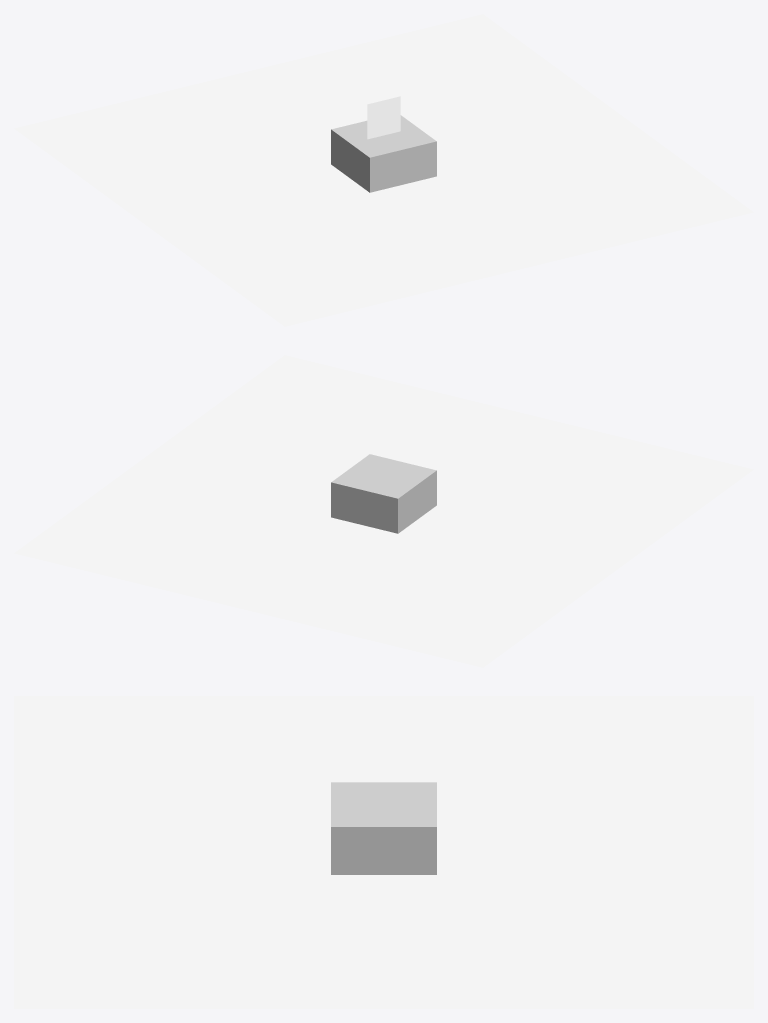
The model's file is animatedTextures.glb.
3 renders of one model, top to bottom at view 1: azimuth 30°, elevation 25°; view 2: azimuth 150°, elevation 25°; view 3: azimuth 270°, elevation 25°, orthographic. The views are drawn at different scales.
Visible parts, largest first — view 1: Cube, Plane.015, Plane.019, Plane.021, Plane.028, Plane.035, Plane.042, Plane.014, Plane.017, Plane.033, Plane.046, Plane.007 (+38 smaller); view 2: Cube, Plane.016, Plane.018, Plane.021, Plane.028, Plane.035, Plane.042, Plane.014, Plane.017, Plane.032, Plane.047, Plane.003 (+37 smaller); view 3: Cube, Plane.023, Plane.024, Plane.037, Plane.038, Plane.001, Plane.009, Plane.010, Plane.012, Plane.013, Plane.030, Plane.031 (+36 smaller).
Boxes of the visible parts, left/top/right/bottom form: Cube: left=331, top=115, right=436, bottom=192; Plane.015: left=91, top=169, right=196, bottom=213; Plane.019: left=571, top=127, right=676, bottom=171; Plane.021: left=254, top=91, right=358, bottom=135; Plane.028: left=215, top=63, right=320, bottom=107; Plane.035: left=409, top=205, right=513, bottom=249; Plane.042: left=447, top=233, right=552, bottom=277; Plane.014: left=130, top=197, right=235, bottom=241; Plane.017: left=532, top=99, right=637, bottom=143; Plane.033: left=416, top=14, right=521, bottom=58; Plane.046: left=246, top=282, right=351, bottom=326; Plane.007: left=370, top=176, right=474, bottom=220; Cube: left=331, top=454, right=436, bottom=533; Plane.016: left=571, top=510, right=676, bottom=554; Plane.018: left=91, top=468, right=196, bottom=512; Plane.021: left=254, top=546, right=358, bottom=590; Plane.028: left=215, top=574, right=320, bottom=618; Plane.035: left=409, top=432, right=513, bottom=476; Plane.042: left=447, top=404, right=552, bottom=448; Plane.014: left=532, top=538, right=637, bottom=582; Plane.017: left=130, top=440, right=235, bottom=484; Plane.032: left=416, top=623, right=521, bottom=667; Plane.047: left=246, top=355, right=351, bottom=399; Plane.003: left=293, top=517, right=397, bottom=561; Cube: left=331, top=782, right=436, bottom=874; Plane.023: left=542, top=919, right=648, bottom=964; Plane.024: left=542, top=740, right=648, bottom=785; Plane.037: left=119, top=919, right=225, bottom=964; Plane.038: left=119, top=740, right=225, bottom=785; Plane.001: left=331, top=919, right=436, bottom=964; Plane.009: left=437, top=919, right=542, bottom=964; Plane.010: left=225, top=919, right=330, bottom=964; Plane.012: left=437, top=740, right=542, bottom=785; Plane.013: left=225, top=740, right=330, bottom=785; Plane.030: left=648, top=919, right=753, bottom=964; Plane.031: left=648, top=740, right=753, bottom=785.
Bounding box in the file's own units: 14 × 3 × 14.
Materials: 2 (2 with a texture image).
